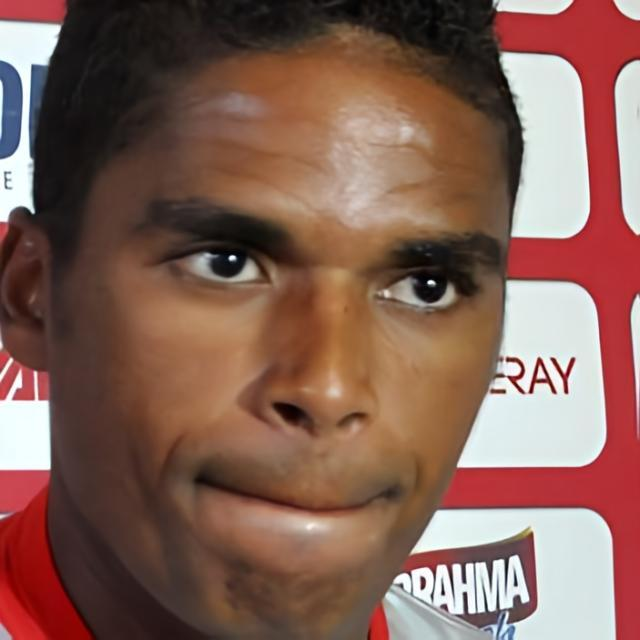neutral: (52, 23, 508, 640)
